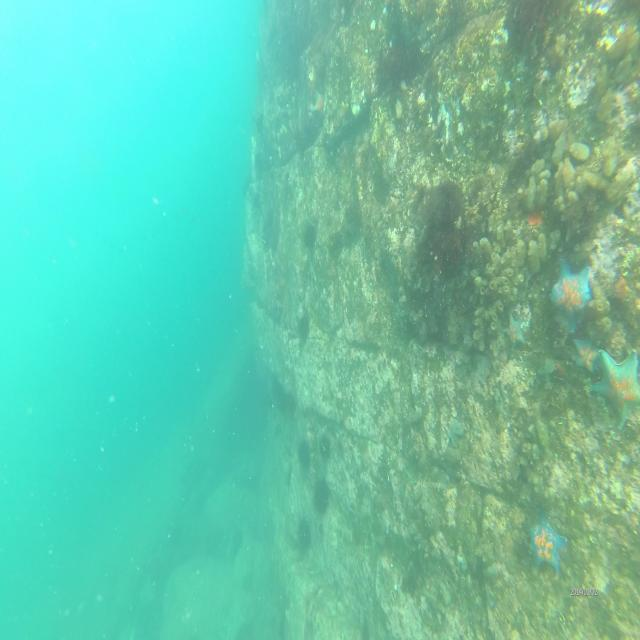echinus: (314, 476, 332, 513), (295, 517, 313, 547), (296, 438, 312, 467), (297, 313, 312, 343), (303, 223, 319, 250), (321, 436, 333, 461)
starfish: (596, 348, 640, 429), (552, 256, 591, 332), (528, 512, 569, 578), (572, 337, 600, 375), (502, 315, 530, 350)
